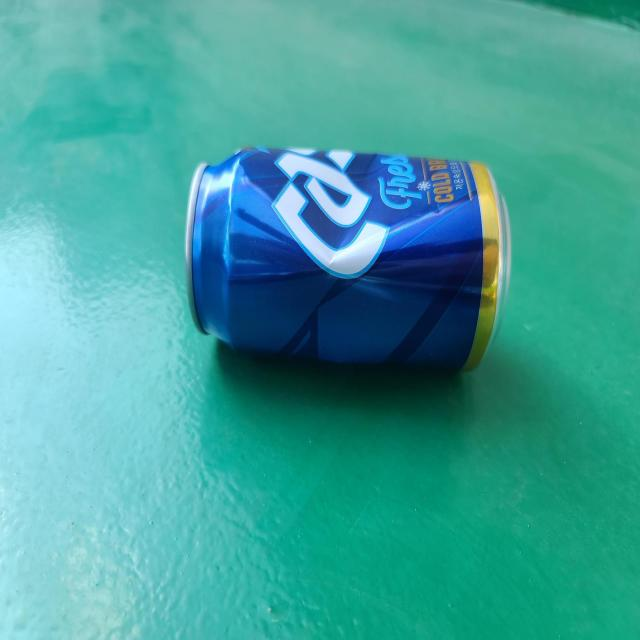can: (185, 146, 511, 370)
